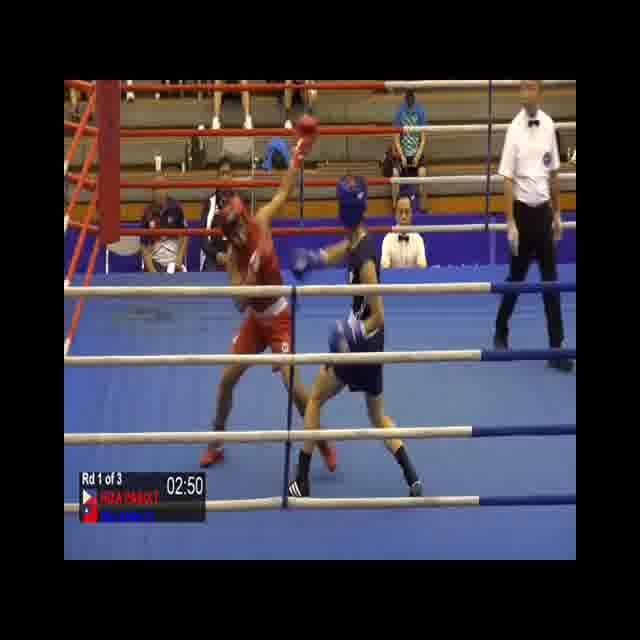blue-player: (283, 171, 425, 504)
red-player: (195, 108, 340, 473)
referee: (488, 80, 575, 374)
